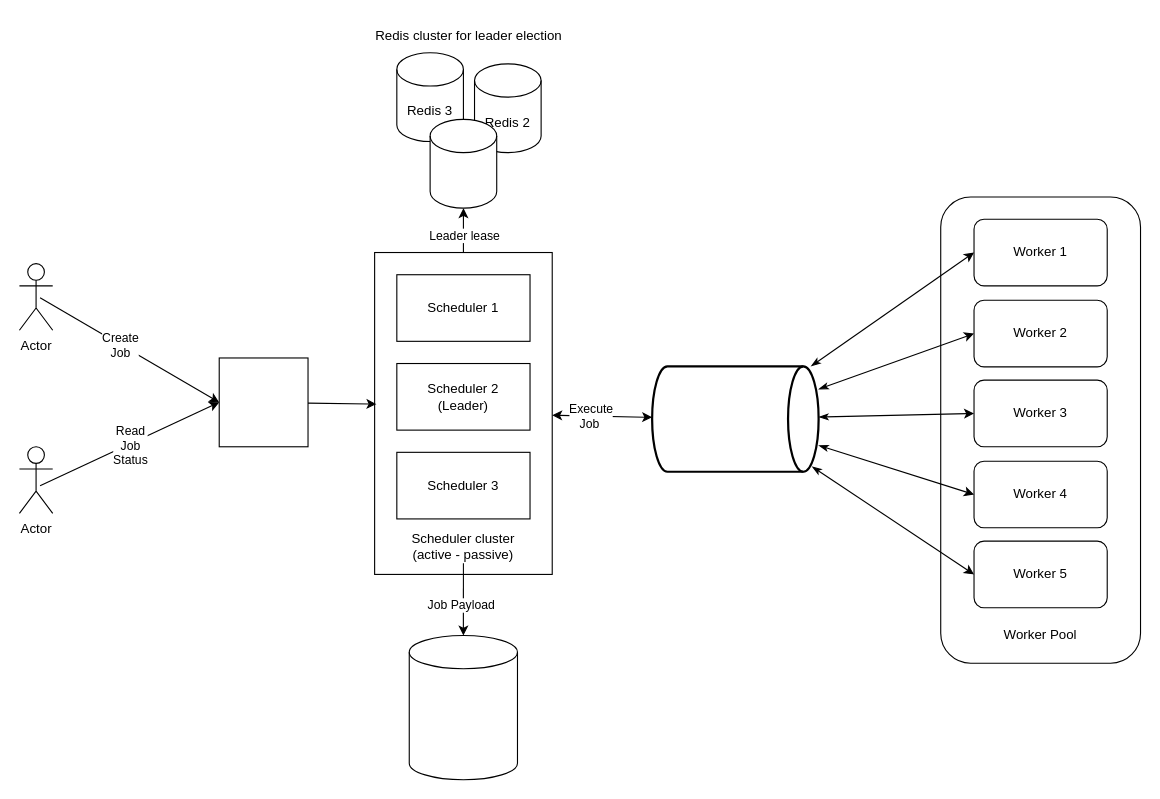
Image size: 1160x799. Some labels were removed from this diagram. The shapes that lost their labels are listed below. From the top down, each one's box as (x1, y1, x2, y2) in pixels, then its label:
(429, 118, 497, 208): Redis 1
(218, 357, 308, 447): Load Balancer
(650, 365, 819, 472): Nats JetStream
(408, 634, 517, 780): Postgres Cluster
